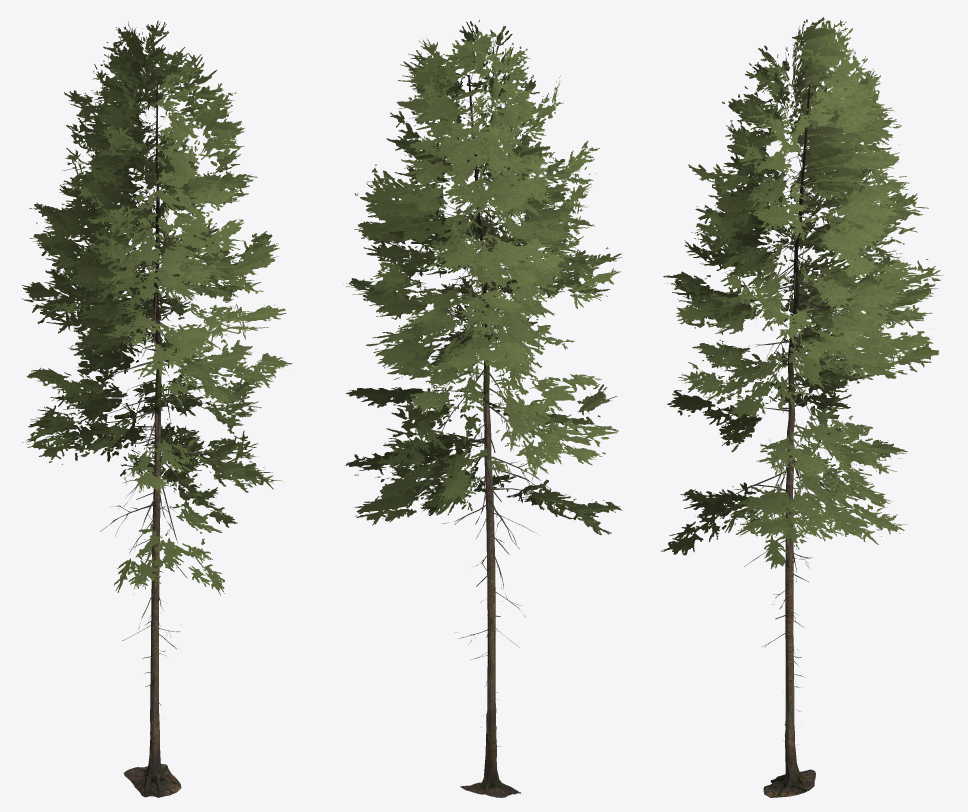
Rendered from fir_a_lod0.glb.
The picture shows the model from 3 angles, left to right: view 1: azimuth 30°, elevation 25°; view 2: azimuth 150°, elevation 25°; view 3: azimuth 270°, elevation 25°; orthographic projection. The views are drawn at different scales.
Parts seen in each view (by area): view 1: fir_a_lod0_needles, fir_a_lod0_trunk_fir_tree_01_trunk_a, fir_a_lod0_branches_fir_tree_01_bark, fir_a_lod0_branches_fir_tree_01_dead_branches; view 2: fir_a_lod0_needles, fir_a_lod0_trunk_fir_tree_01_trunk_a, fir_a_lod0_branches_fir_tree_01_bark, fir_a_lod0_branches_fir_tree_01_dead_branches; view 3: fir_a_lod0_needles, fir_a_lod0_trunk_fir_tree_01_trunk_a, fir_a_lod0_branches_fir_tree_01_bark.
Boxes of the visible parts, box(x1,y1,x2,y2) form: fir_a_lod0_needles: box(22, 20, 292, 595); fir_a_lod0_trunk_fir_tree_01_trunk_a: box(123, 84, 181, 797); fir_a_lod0_branches_fir_tree_01_bark: box(98, 71, 226, 549); fir_a_lod0_branches_fir_tree_01_dead_branches: box(100, 438, 188, 705); fir_a_lod0_needles: box(343, 20, 621, 535); fir_a_lod0_trunk_fir_tree_01_trunk_a: box(460, 75, 520, 797); fir_a_lod0_branches_fir_tree_01_bark: box(422, 62, 571, 505); fir_a_lod0_branches_fir_tree_01_dead_branches: box(442, 432, 551, 715); fir_a_lod0_needles: box(661, 17, 943, 568); fir_a_lod0_trunk_fir_tree_01_trunk_a: box(763, 84, 815, 797); fir_a_lod0_branches_fir_tree_01_bark: box(721, 65, 841, 515).
Bounding box in the file's own units: 6.96 × 18.93 × 6.63.
Materials: 3 (3 with a texture image).
